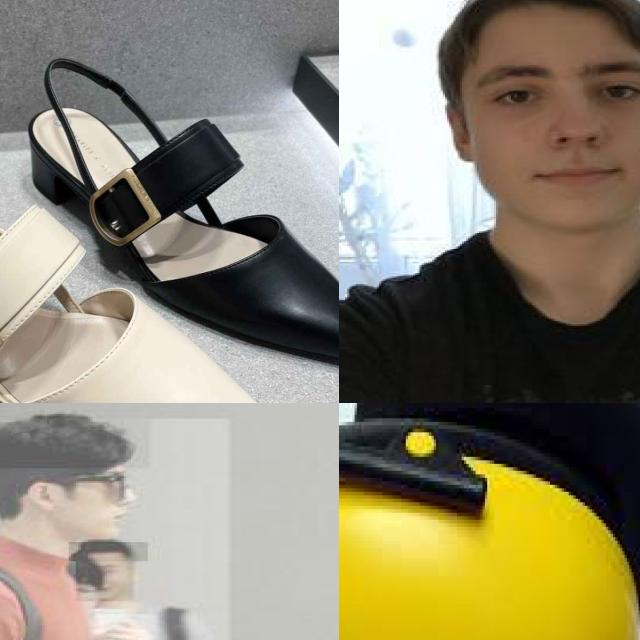Ear-protection: (339, 411, 640, 640), (367, 403, 640, 615)
No_Ear-Protection: (440, 95, 483, 167), (20, 478, 66, 519)
No_Glasses: (463, 53, 640, 116)
Sandals: (0, 47, 339, 389), (0, 156, 323, 403)
face_nomask: (464, 55, 640, 229), (47, 466, 138, 544), (76, 561, 133, 601)
hand_noglove: (97, 614, 157, 640)
head_nohelmet: (436, 0, 640, 53), (0, 418, 150, 468), (68, 542, 148, 561)
person: (339, 0, 640, 403), (0, 418, 231, 640)
